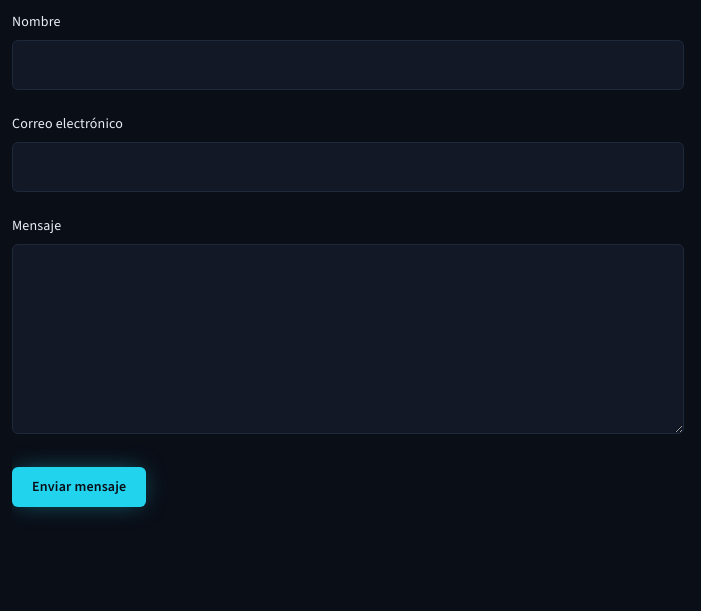
it: ContactForm › shows the server Spanish error and keeps values on a 400
Type "Ana" into the field labelled "Nombre" at (348, 65), box x1=12 y1=40 x2=684 y2=90
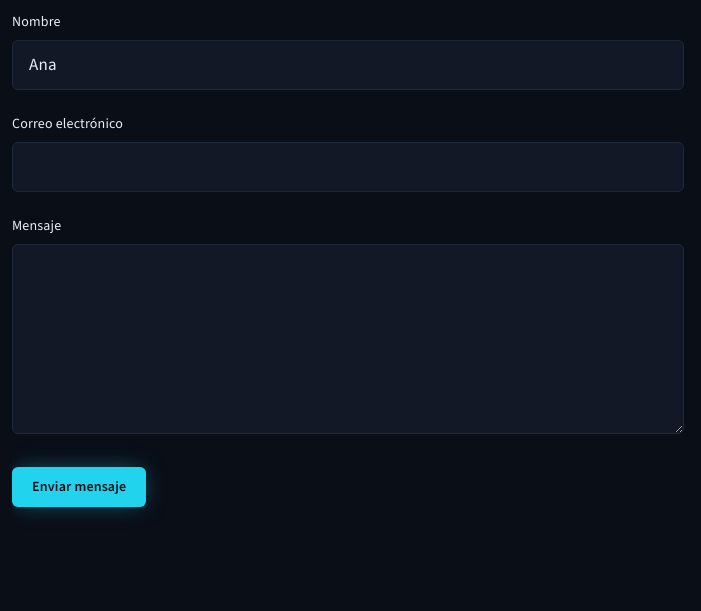
Type "ana@example.com" into the field labelled "Correo electrónico" at (348, 167), box x1=12 y1=142 x2=684 y2=192
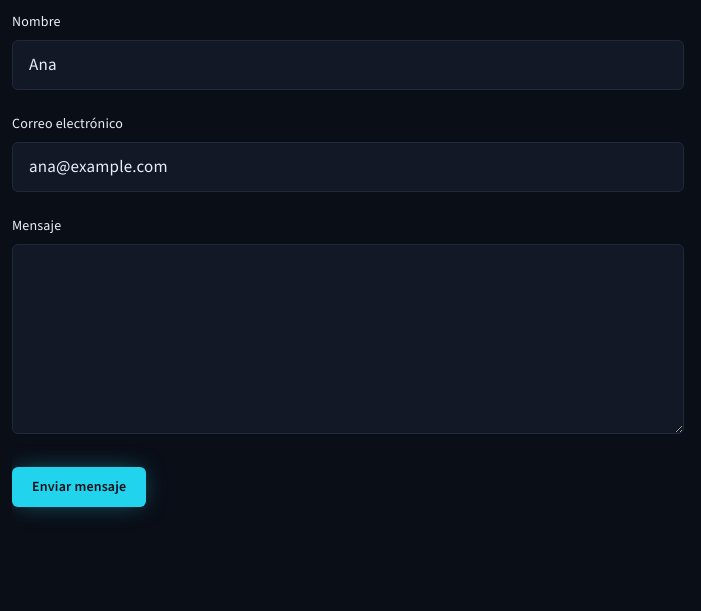
Type "Hola, quería consultar por un proyecto." into the text box labelled "Mensaje" at (348, 339), box x1=12 y1=244 x2=684 y2=434
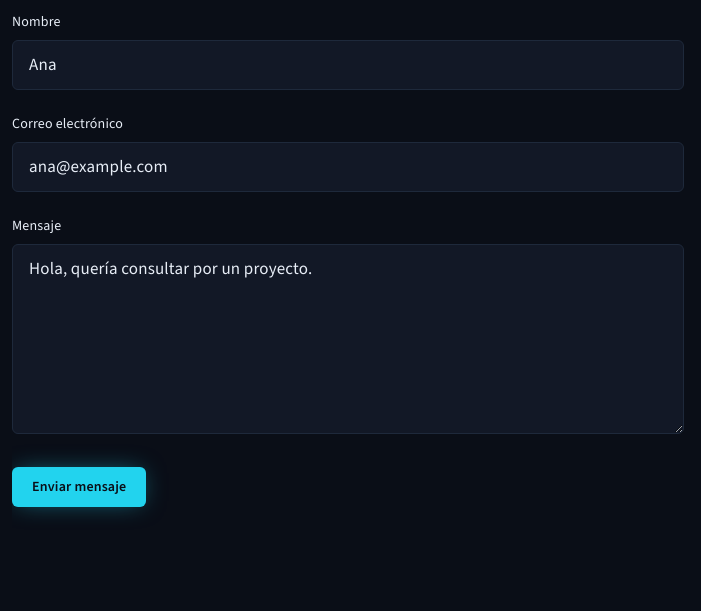
Click the button "Enviar mensaje" at (79, 487), box x1=12 y1=467 x2=146 y2=507
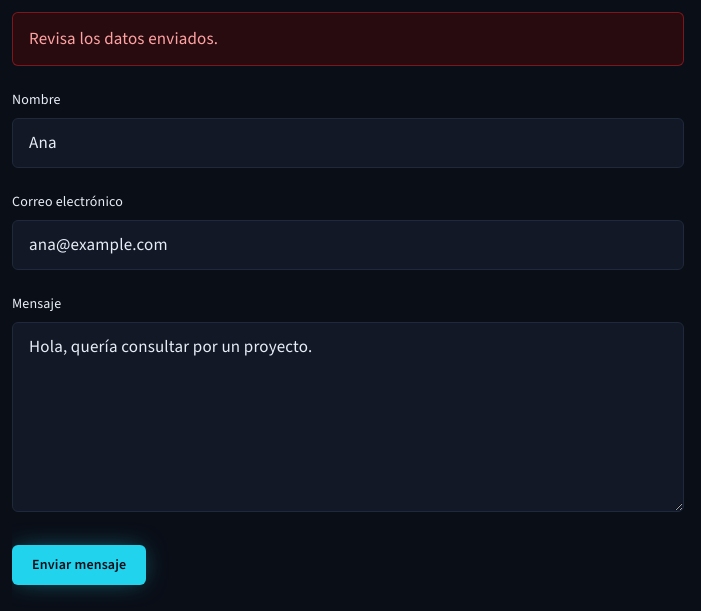
Expected: the message reads "Revisa los datos enviados.", x1=29 y1=27 x2=218 y2=50
